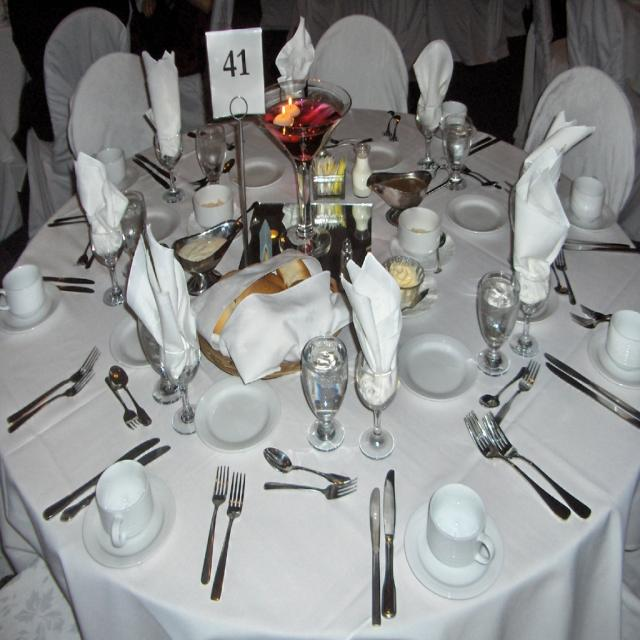non-organic waste: (387, 490, 539, 614), (371, 316, 490, 440), (192, 365, 287, 461)
